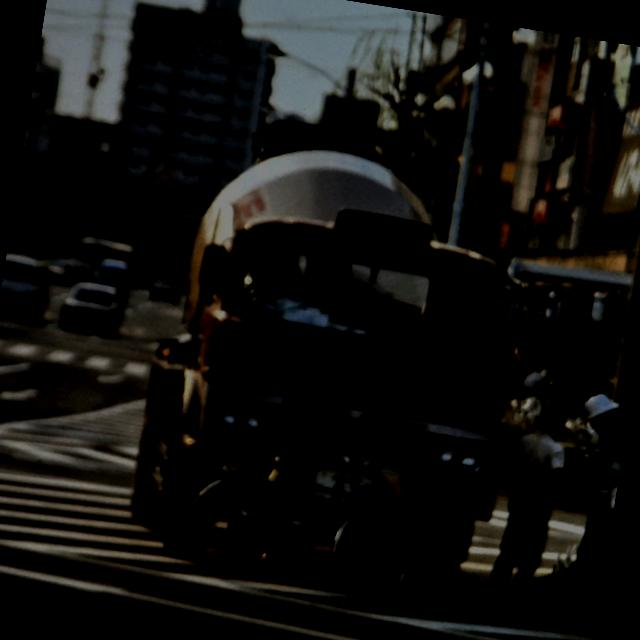Vehicle: (114, 104, 570, 613), (0, 241, 57, 321), (70, 232, 148, 288), (57, 276, 126, 338), (0, 253, 52, 321), (72, 234, 138, 272), (36, 250, 96, 290), (92, 256, 132, 304), (148, 274, 182, 304)
